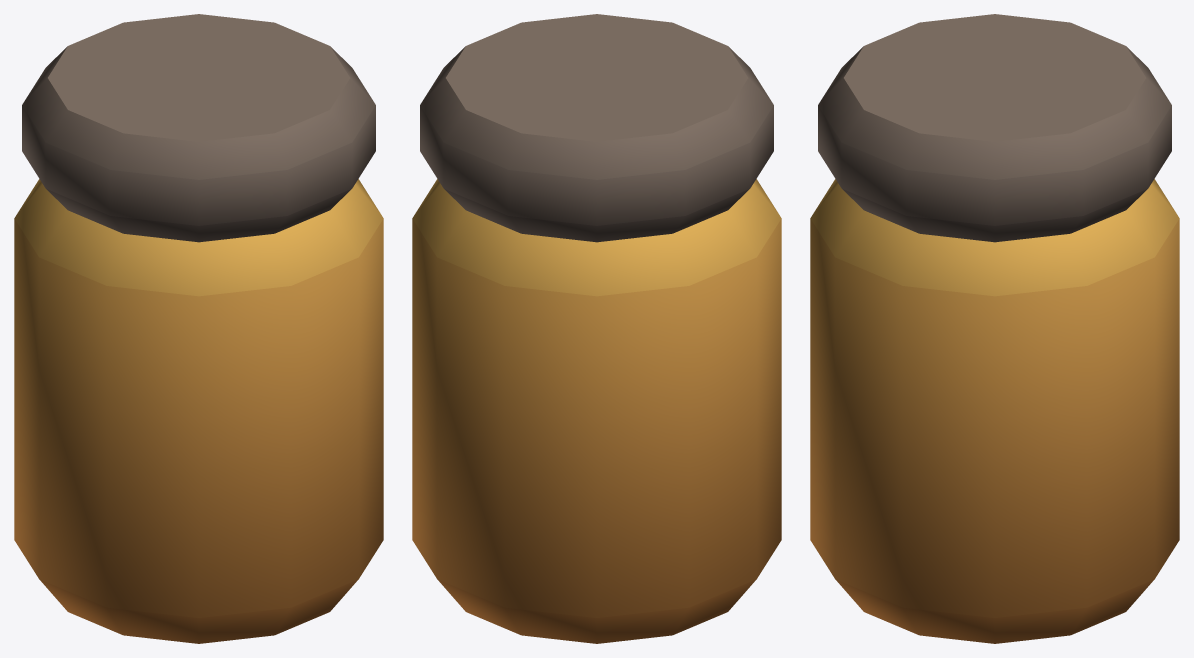
Rendered from kay-jar_d_large.glb.
The picture shows the model from 3 angles, left to right: view 1: azimuth 30°, elevation 25°; view 2: azimuth 150°, elevation 25°; view 3: azimuth 270°, elevation 25°; orthographic projection.
Parts seen in each view (by area): view 1: jar_D_large; view 2: jar_D_large; view 3: jar_D_large.
Part boxes in pixels (x1,y1,x2,y2): jar_D_large: (14, 14, 383, 643); jar_D_large: (412, 14, 781, 643); jar_D_large: (810, 14, 1179, 643).
Bounding box in the file's own units: 0.1467 × 0.22 × 0.1467.
1 material, 1 textured.
